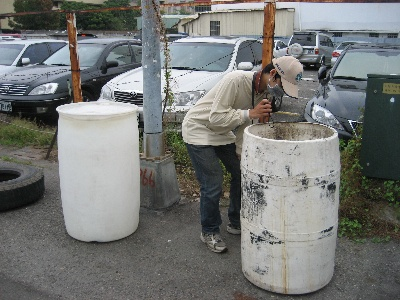bucket: (239, 121, 339, 295), (54, 100, 141, 244)
tire: (1, 160, 45, 211)
